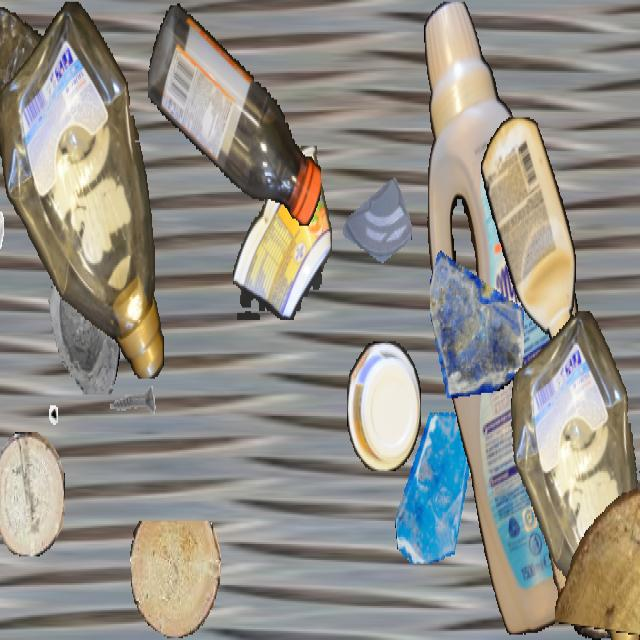glass: (430, 231, 524, 398), (33, 234, 123, 394), (393, 412, 477, 562), (343, 166, 411, 286)
metal: (545, 267, 607, 377), (105, 363, 157, 455), (8, 353, 58, 442), (0, 190, 7, 276)
plastic: (422, 2, 626, 634), (0, 1, 165, 378), (506, 311, 640, 638), (148, 2, 320, 229), (481, 117, 575, 345), (233, 146, 331, 320), (347, 342, 421, 469), (0, 2, 62, 126)
wood: (547, 450, 623, 638), (555, 471, 640, 638), (130, 521, 220, 638), (0, 432, 65, 556)
